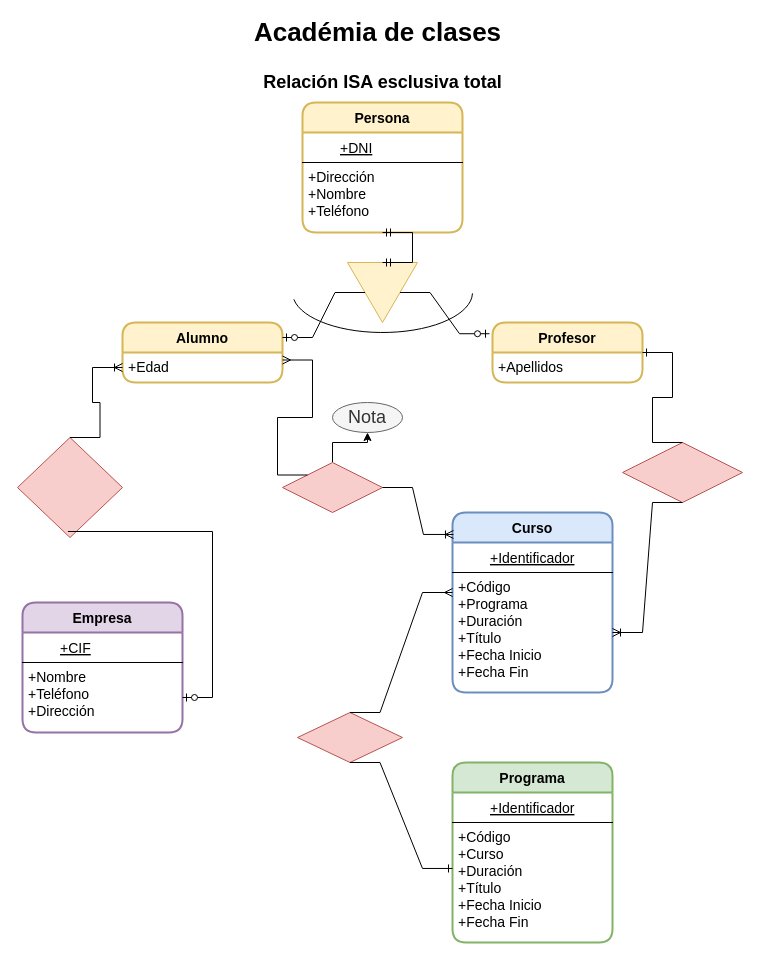
Some shapes in this 760 by 961 pixel diagram are drawn without their labels. The shapes that lost their labels are listed below. From the top down, each one's centre as x and y in pixels, then its label:
the point at 69,487: Trabaja en
the point at 332,487: Cursan
the point at 682,472: Imparten
the point at 349,737: Pertenecen
